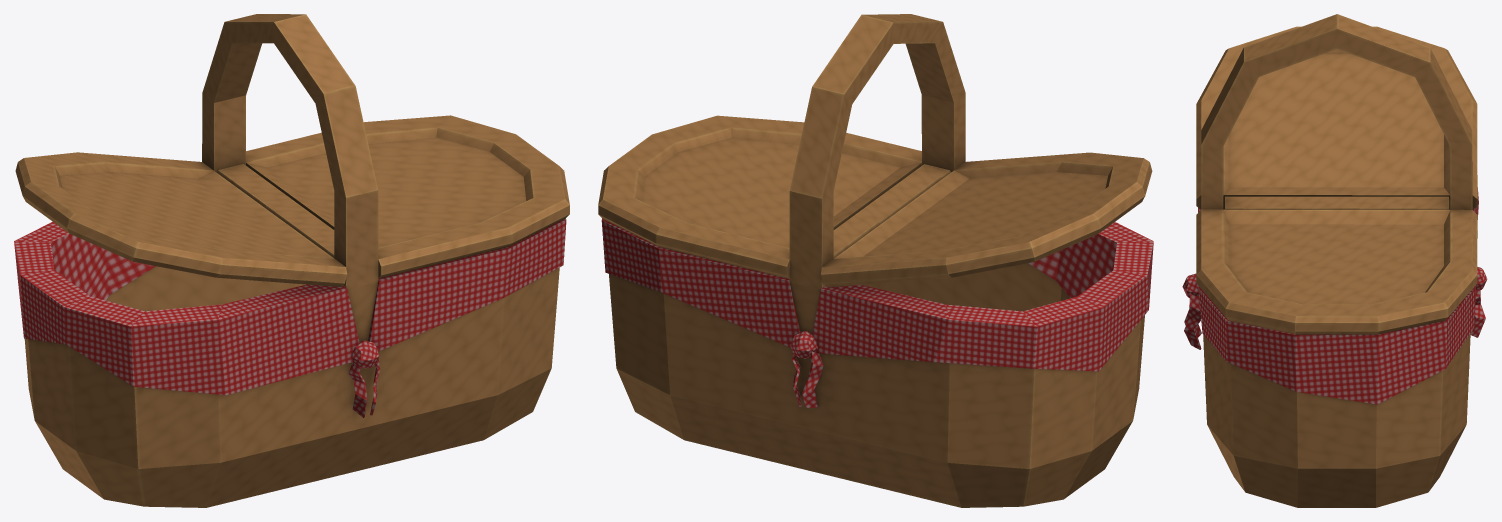
File: PicnicBasket.gltf
3 renders of one model, left to right at view 1: azimuth 30°, elevation 25°; view 2: azimuth 150°, elevation 25°; view 3: azimuth 270°, elevation 25°, orthographic. The views are drawn at different scales.
Parts seen in each view (by area): view 1: node-0; view 2: node-0; view 3: node-0.
Boxes of the visible parts, x1=… form: node-0: x1=14, y1=14, x2=569, y2=507; node-0: x1=598, y1=14, x2=1153, y2=507; node-0: x1=1182, y1=14, x2=1487, y2=507.
Size of the model in its own units: 5.81 by 4.88 by 3.26.
Materials: 1 (1 with a texture image).
